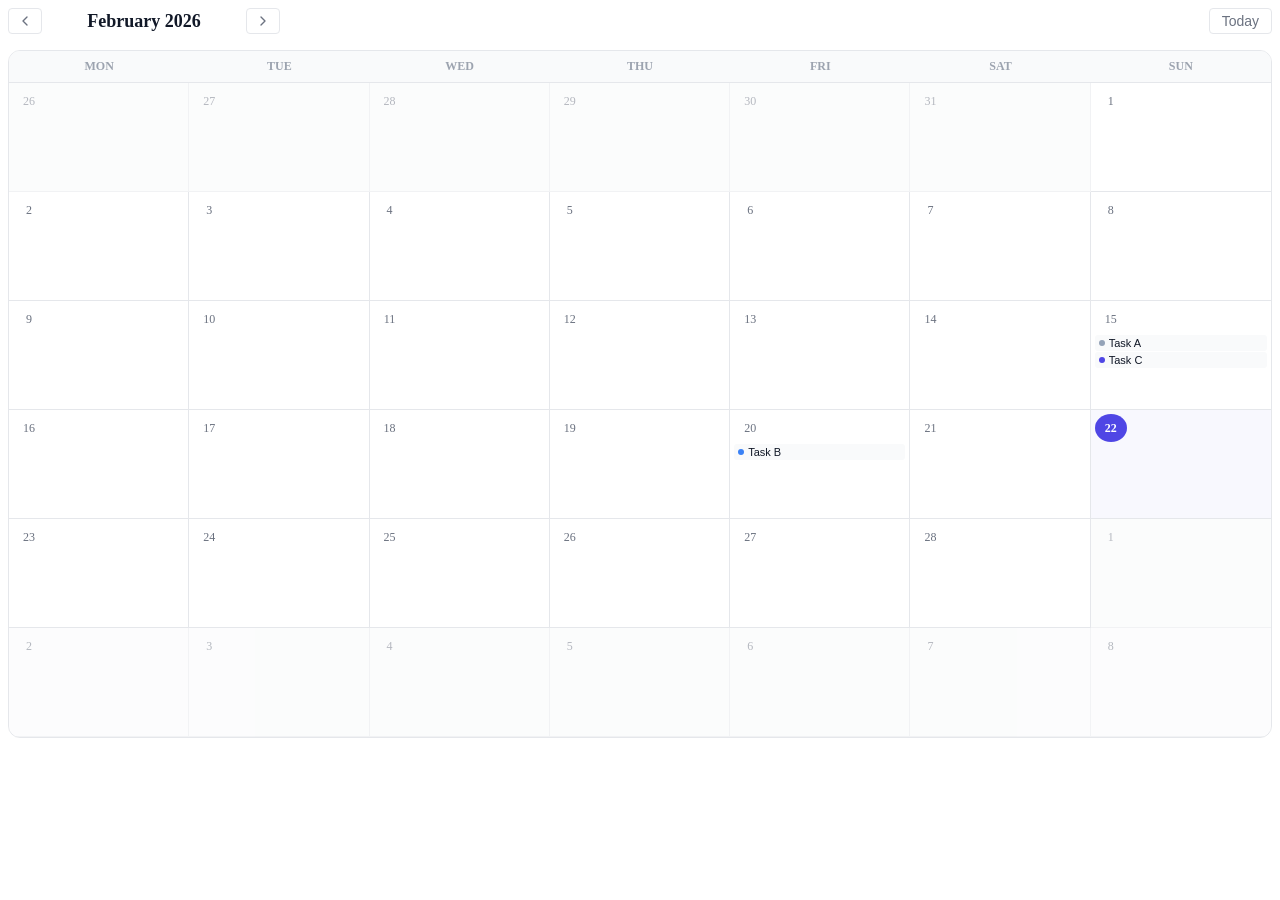
Scenario: CalendarView › today button returns to current month
// Navigate away first
What coordinates should you click on to do the following:
click the button named "Next month"
I would click on:
 (263, 21)
Its box is [246,8,280,34].
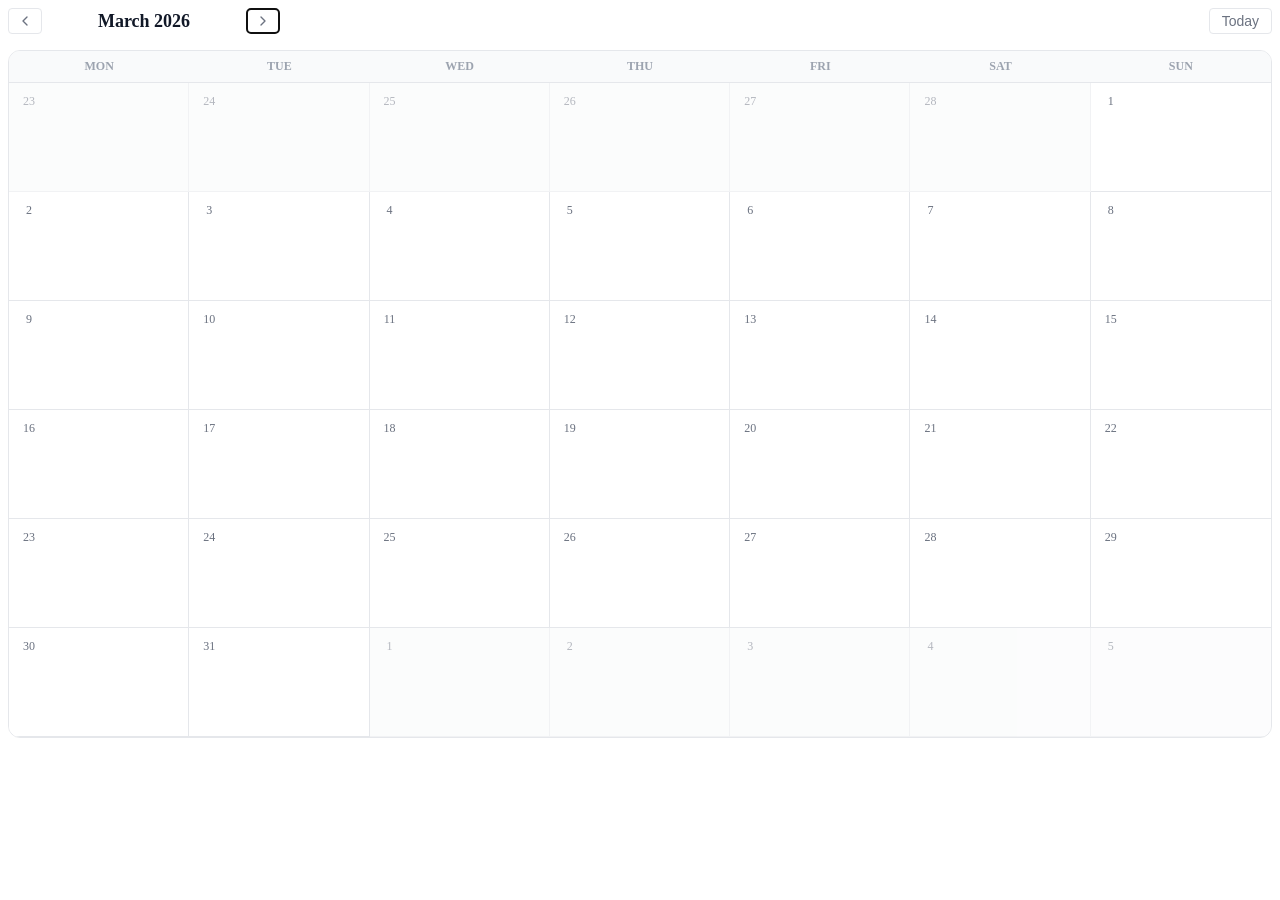
What coordinates should you click on to do the following:
click the button named "Next month"
I would click on:
 (263, 21)
Its box is [246,8,280,34].
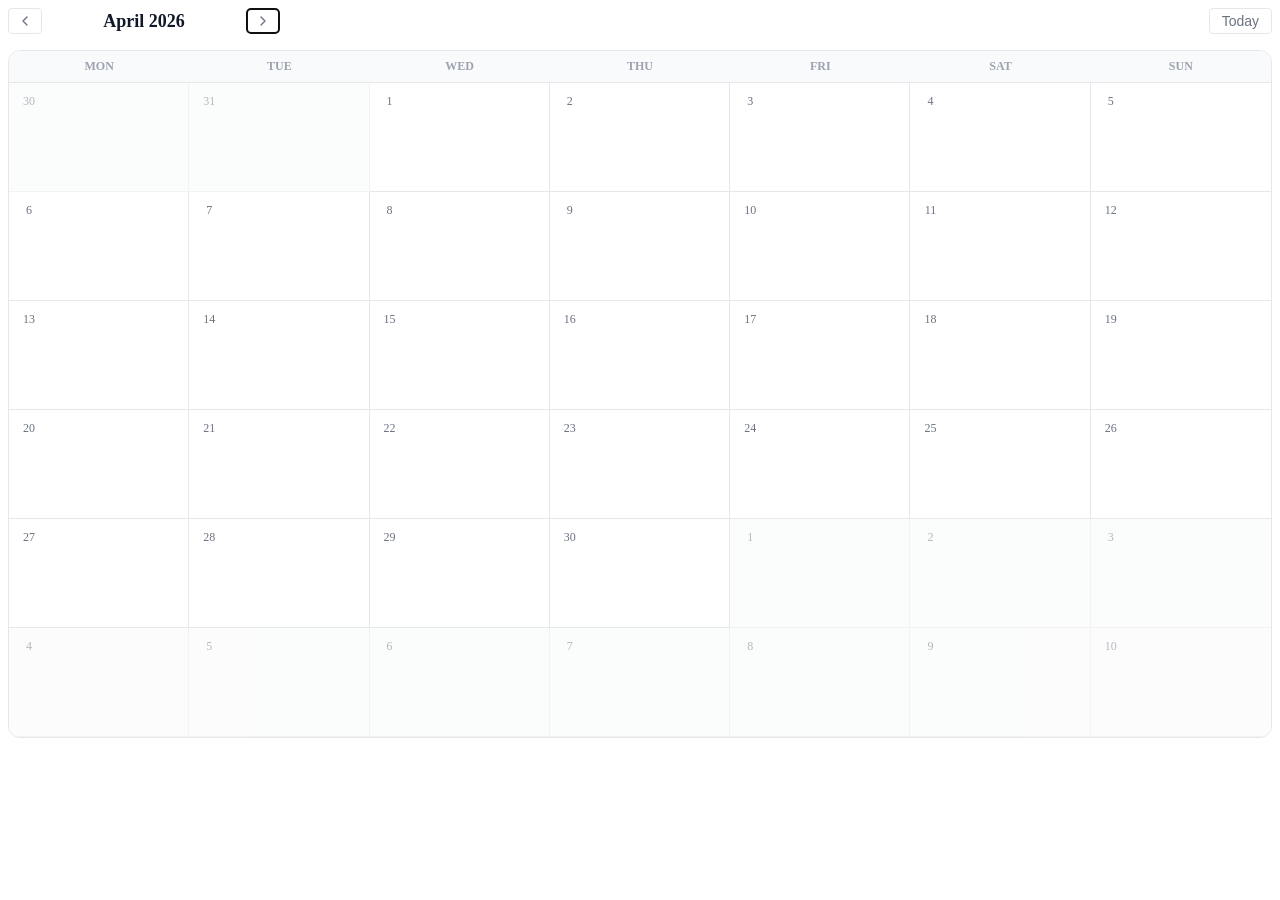
// Then click Today
What coordinates should you click on to do the following:
click the button "Today"
I would click on:
 (1240, 21)
Its box is [1209,8,1272,34].
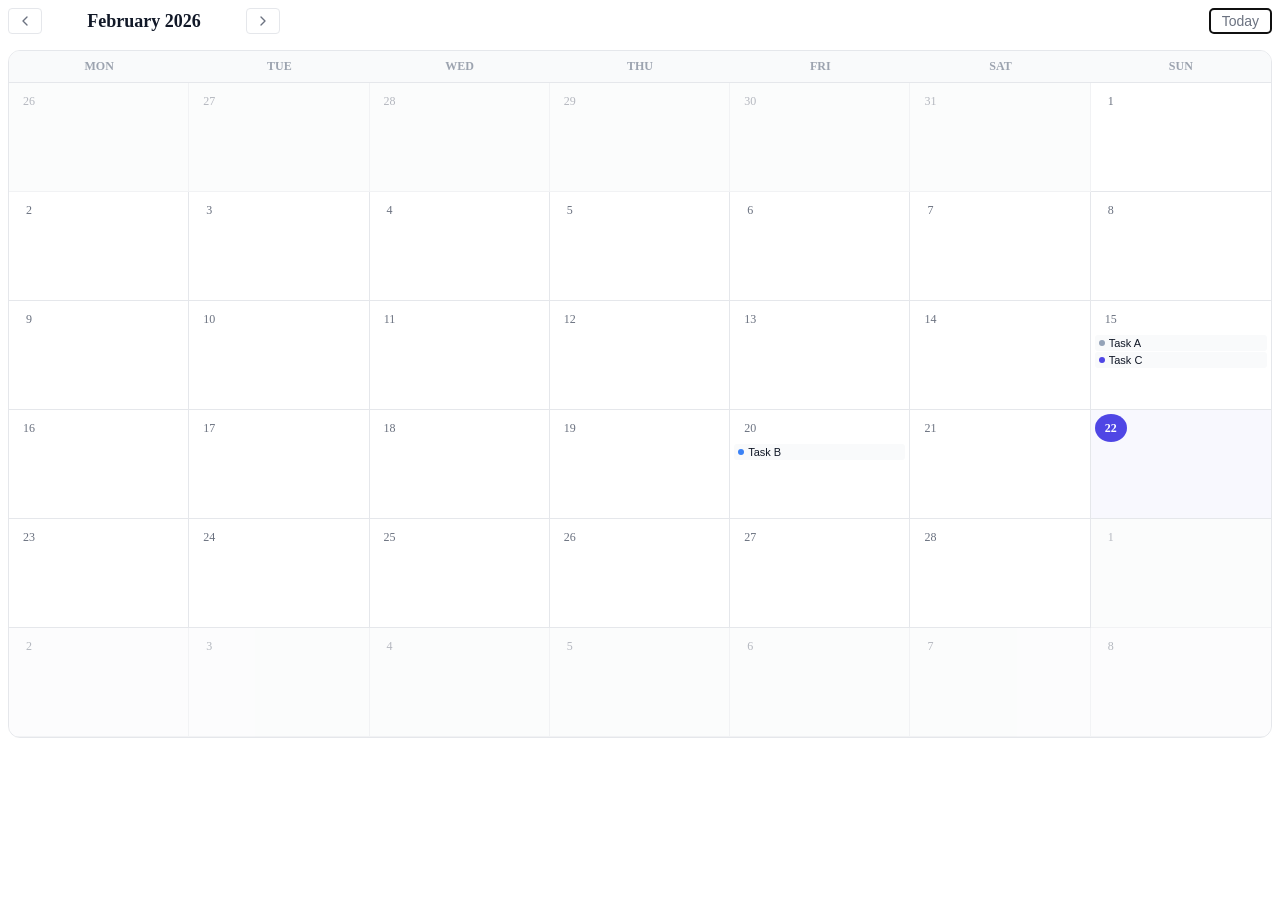
Now the text with class "db-calendar-view__month" shows "February", box [87,10,201,30]
